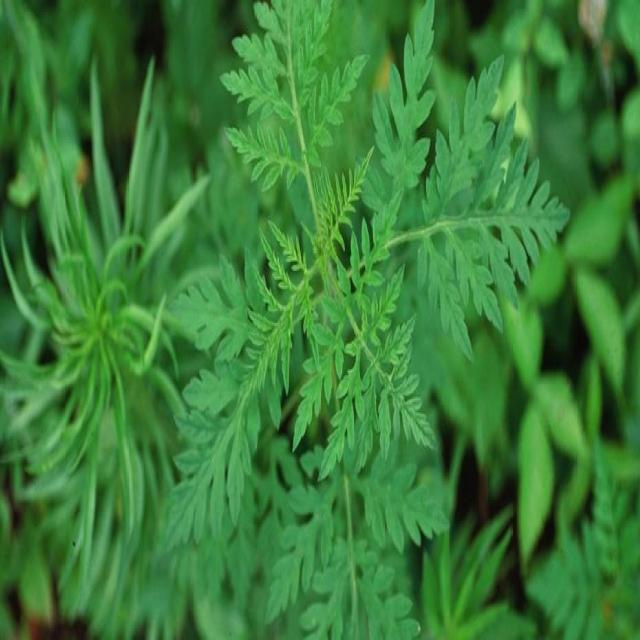ambrosia: (221, 39, 533, 442)
